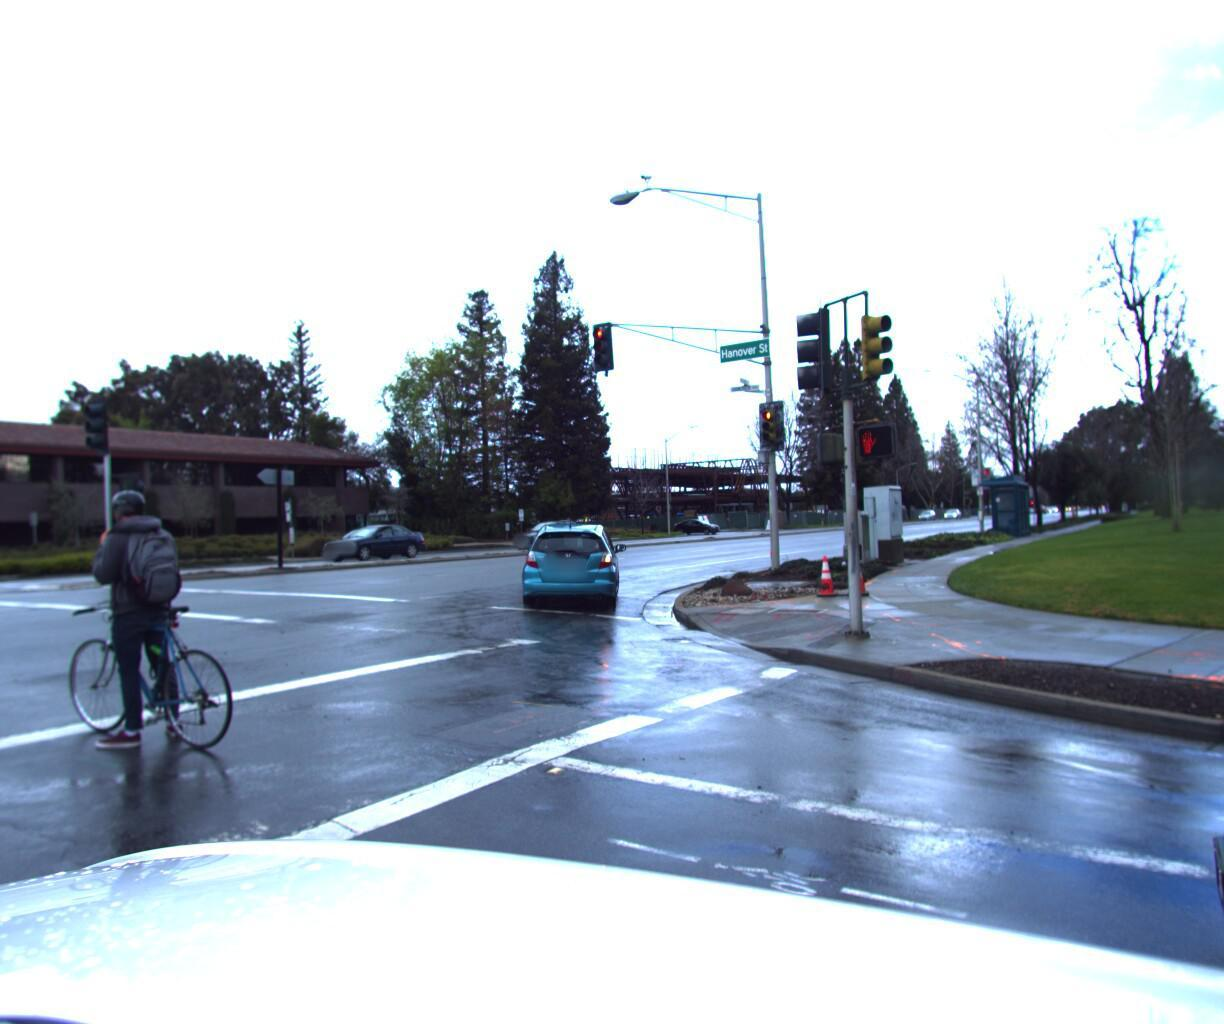bicycle: (0, 478, 263, 771)
car: (510, 513, 620, 608), (312, 520, 431, 563), (506, 515, 588, 548), (669, 516, 722, 537)
